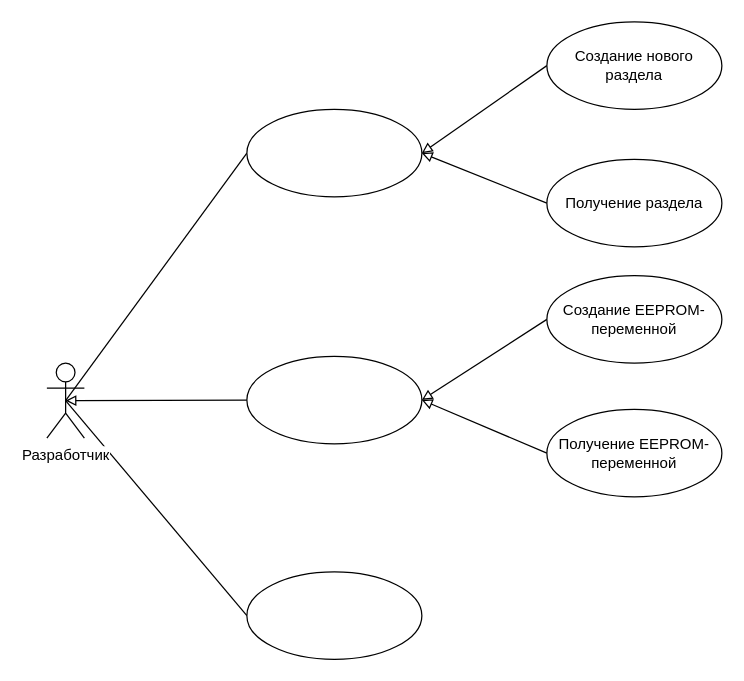
This 744x681 diagram has some shape labels left out. Here are the shapes that lost their labels. From the top down, the box of each, then its label:
(246, 108, 422, 197): Работа с множеством разделов
(246, 355, 422, 444): Работа с разделом
(246, 571, 422, 659): Обновление значения EEPROM-переменной
